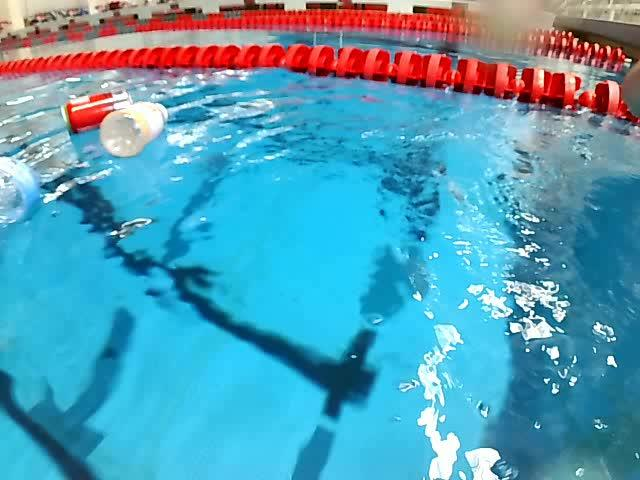Bottle: (96, 95, 175, 158), (0, 151, 48, 223)
Can: (60, 87, 142, 137)
